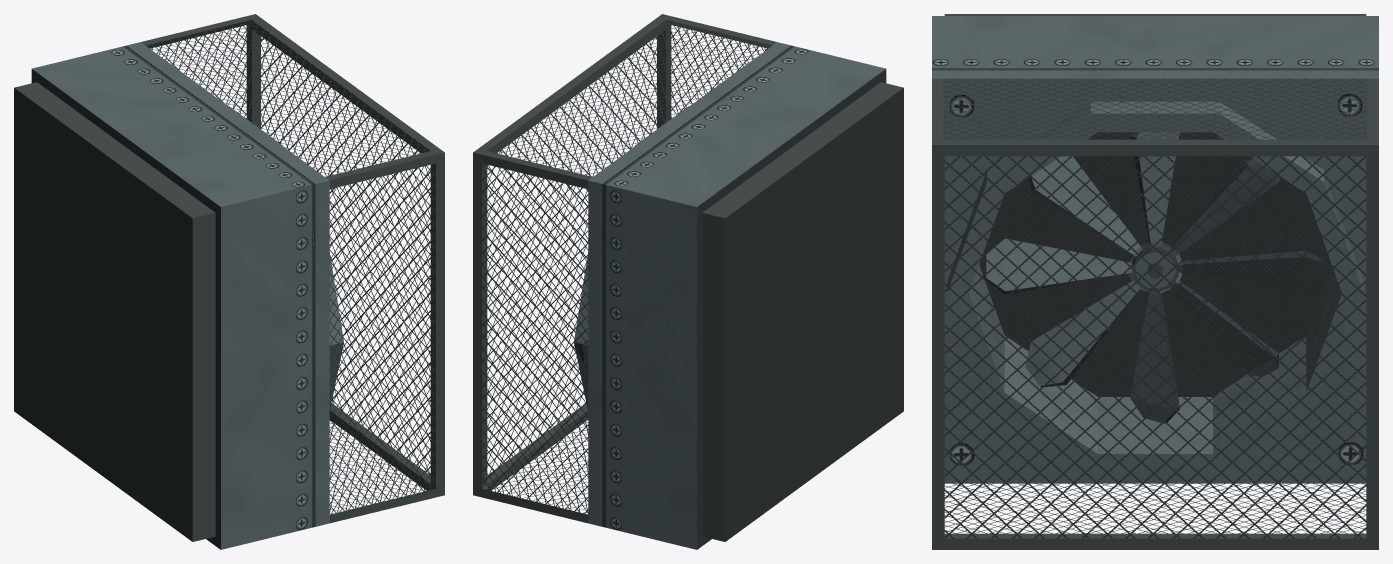
The model's file is fan.fbx.
3 renders of one model, left to right at view 1: azimuth 30°, elevation 25°; view 2: azimuth 150°, elevation 25°; view 3: azimuth 270°, elevation 25°, orthographic. The views are drawn at different scales.
Visible parts, largest first — view 1: Cube, Cylinder.001; view 2: Cube, Cylinder.001; view 3: Cube, Cylinder.001, Cylinder.
Part boxes in pixels (x1,y1,x2,y2): Cube: (14, 14, 444, 549); Cylinder.001: (228, 106, 343, 410); Cube: (473, 14, 903, 549); Cylinder.001: (574, 106, 689, 410); Cube: (932, 14, 1378, 549); Cylinder.001: (947, 101, 1363, 472); Cylinder: (986, 132, 1322, 423).
Size of the model in its own units: 1264 by 1677 by 1677.
